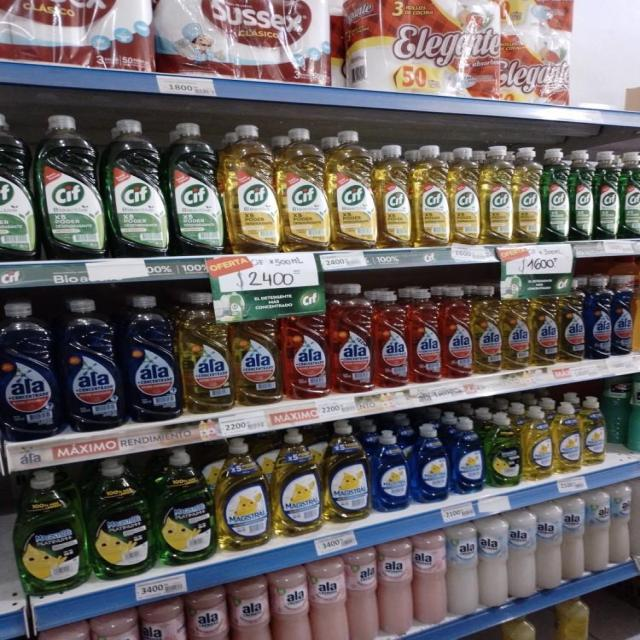ala_conc_amarillo: (180, 291, 232, 414), (232, 294, 281, 407), (474, 285, 502, 375), (503, 288, 530, 371), (559, 283, 584, 363), (531, 292, 558, 366)
ala_conc_azul: (0, 300, 59, 439), (61, 297, 122, 431), (124, 294, 179, 423), (586, 276, 611, 360), (612, 274, 633, 356), (633, 272, 640, 355)
ala_conc_rojo: (282, 289, 328, 401), (330, 283, 373, 395), (375, 288, 408, 388), (409, 287, 441, 384), (442, 286, 472, 380)
ala_crem_blanco: (448, 521, 478, 616), (479, 516, 508, 608), (509, 509, 536, 600), (537, 501, 562, 591)
ala_crem_rosado: (379, 539, 412, 637), (414, 530, 446, 626), (311, 557, 347, 640), (347, 547, 378, 640), (272, 566, 310, 640), (231, 576, 271, 640), (188, 587, 229, 640), (143, 598, 188, 640), (94, 610, 141, 640), (39, 622, 93, 640)
cif_conc_bot_amarilla: (225, 123, 278, 254), (279, 127, 328, 253), (330, 129, 376, 250), (376, 143, 412, 249), (413, 144, 449, 248), (482, 144, 513, 244), (450, 146, 480, 246), (514, 146, 542, 244)
cif_conc_botella_verde: (38, 114, 103, 260), (107, 118, 167, 258), (170, 121, 222, 256), (0, 110, 34, 263), (543, 148, 570, 242), (571, 149, 595, 241), (596, 150, 620, 240), (621, 151, 640, 239)
heroe: (628, 372, 640, 452)
magistral_con_amarillo: (216, 438, 270, 552), (273, 428, 322, 536), (325, 421, 369, 524), (522, 406, 552, 482), (553, 401, 580, 475), (581, 396, 606, 468)
magistral_con_azul: (371, 428, 409, 512), (412, 423, 449, 504), (451, 416, 484, 495)
